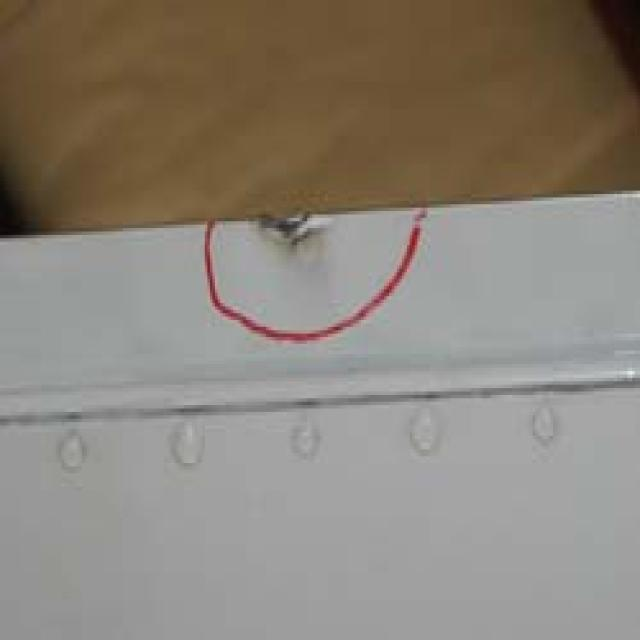Rupture: (255, 213, 346, 247)
